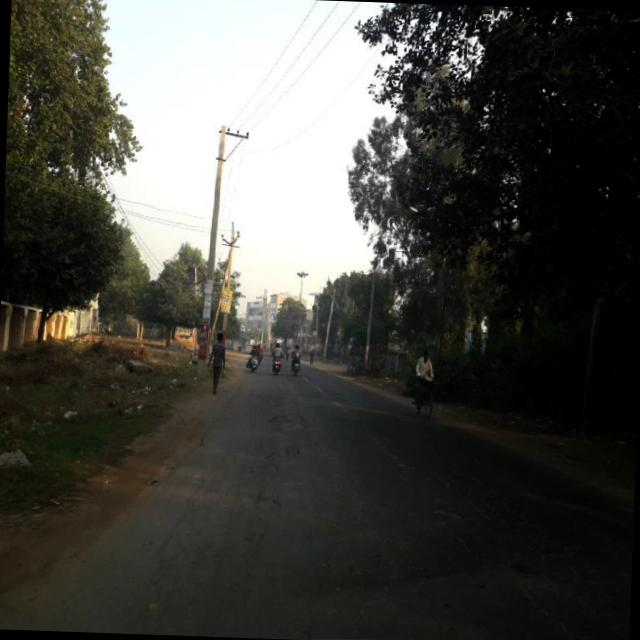crack: (412, 445, 602, 623), (126, 460, 298, 636)
